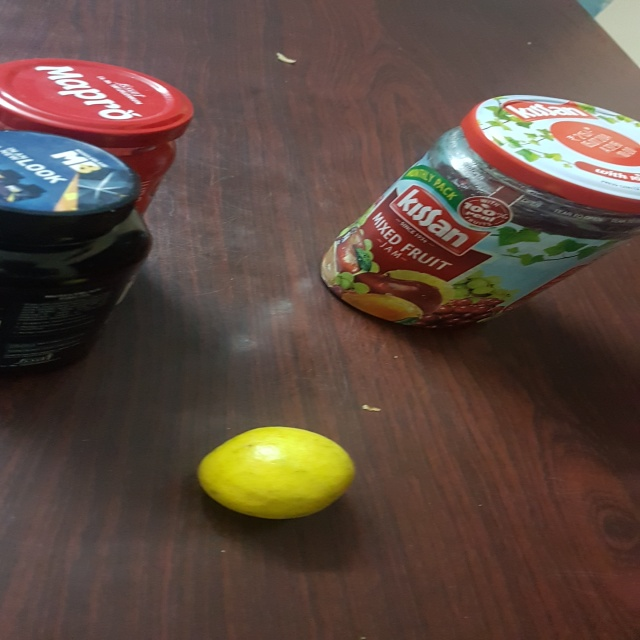lemon: (196, 423, 366, 527)
